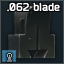M1A SA National Match .062 Blade front sight: (0, 0, 64, 64)
